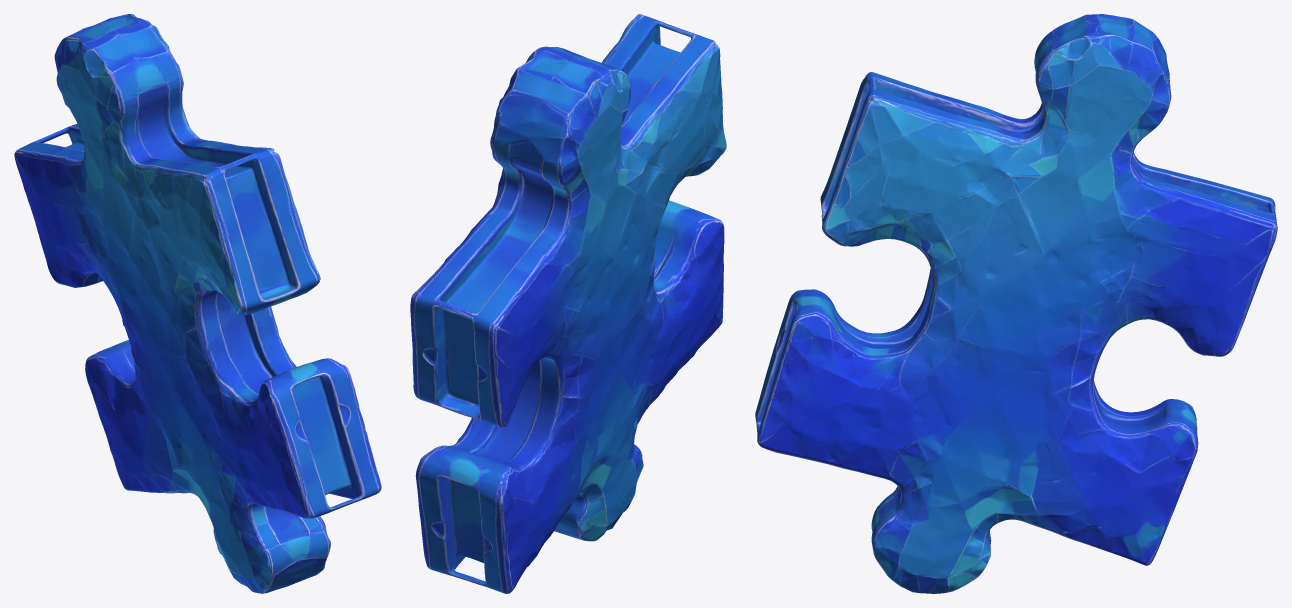
The model's file is diamond.glb.
3 renders of one model, left to right at view 1: azimuth 30°, elevation 25°; view 2: azimuth 150°, elevation 25°; view 3: azimuth 270°, elevation 25°, orthographic. The views are drawn at different scales.
Parts seen in each view (by area): view 1: tripo_node_a7df8c0d-5802-40ef-89f9-9e5bde31f0f5; view 2: tripo_node_a7df8c0d-5802-40ef-89f9-9e5bde31f0f5; view 3: tripo_node_a7df8c0d-5802-40ef-89f9-9e5bde31f0f5.
Boxes of the visible parts, box(x1,y1,x2,y2) form: tripo_node_a7df8c0d-5802-40ef-89f9-9e5bde31f0f5: box(14, 14, 381, 593); tripo_node_a7df8c0d-5802-40ef-89f9-9e5bde31f0f5: box(410, 14, 726, 593); tripo_node_a7df8c0d-5802-40ef-89f9-9e5bde31f0f5: box(755, 14, 1277, 593).
Bounding box in the file's own units: 0.2995 × 0.9789 × 0.8804.
Materials: 1 (1 with a texture image).
